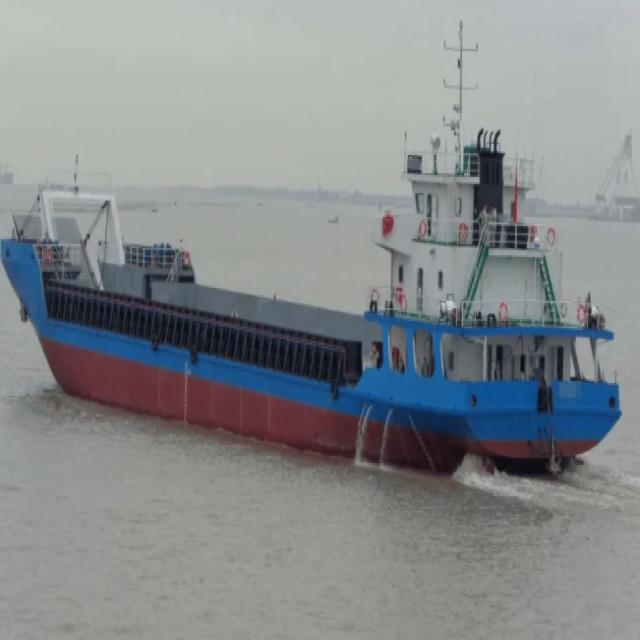fishing boat: (4, 78, 610, 470)
